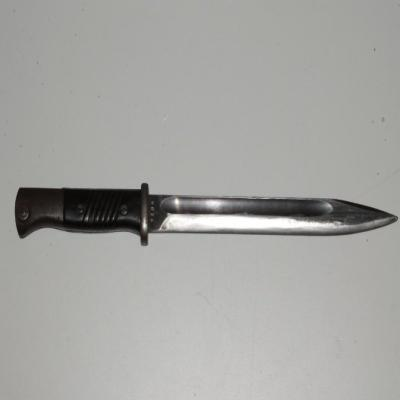weapon: (15, 183, 398, 248)
